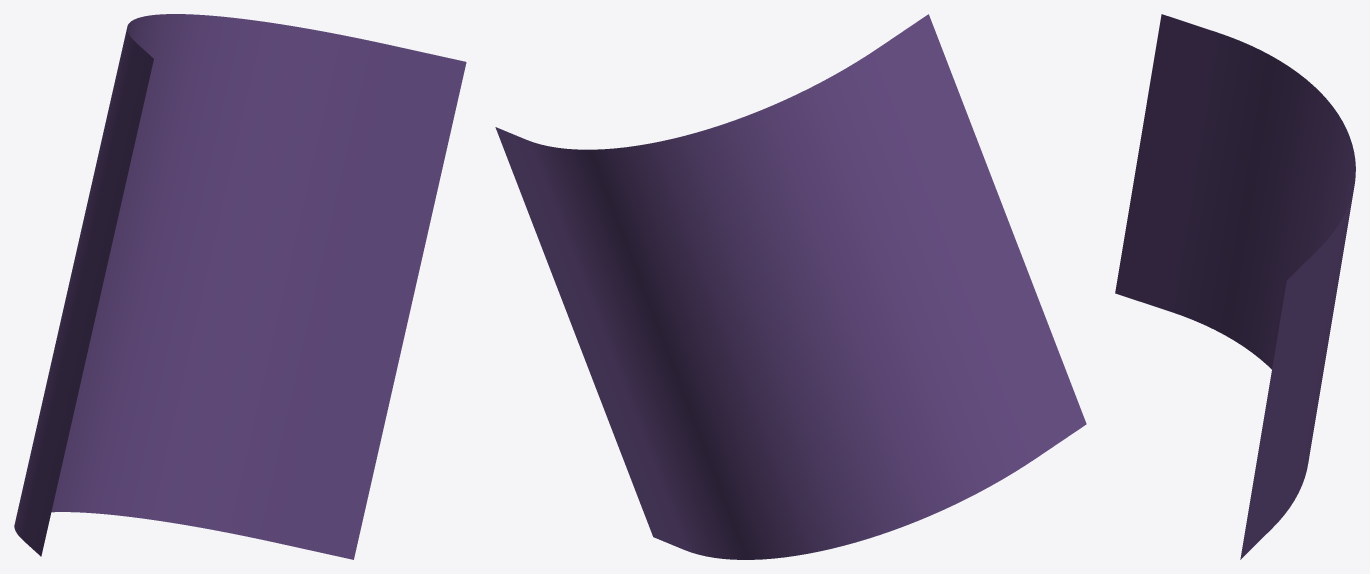
File: Background.glb
The picture shows the model from 3 angles, left to right: view 1: azimuth 30°, elevation 25°; view 2: azimuth 150°, elevation 25°; view 3: azimuth 270°, elevation 25°; orthographic projection. The views are drawn at different scales.
Visible parts, largest first — view 1: Background; view 2: Background; view 3: Background.
Boxes of the visible parts, bbox=[...] form: Background: bbox=[14, 14, 466, 559]; Background: bbox=[495, 14, 1086, 559]; Background: bbox=[1115, 14, 1355, 559].
Size of the model in its own units: 144 by 154 by 74.06.
